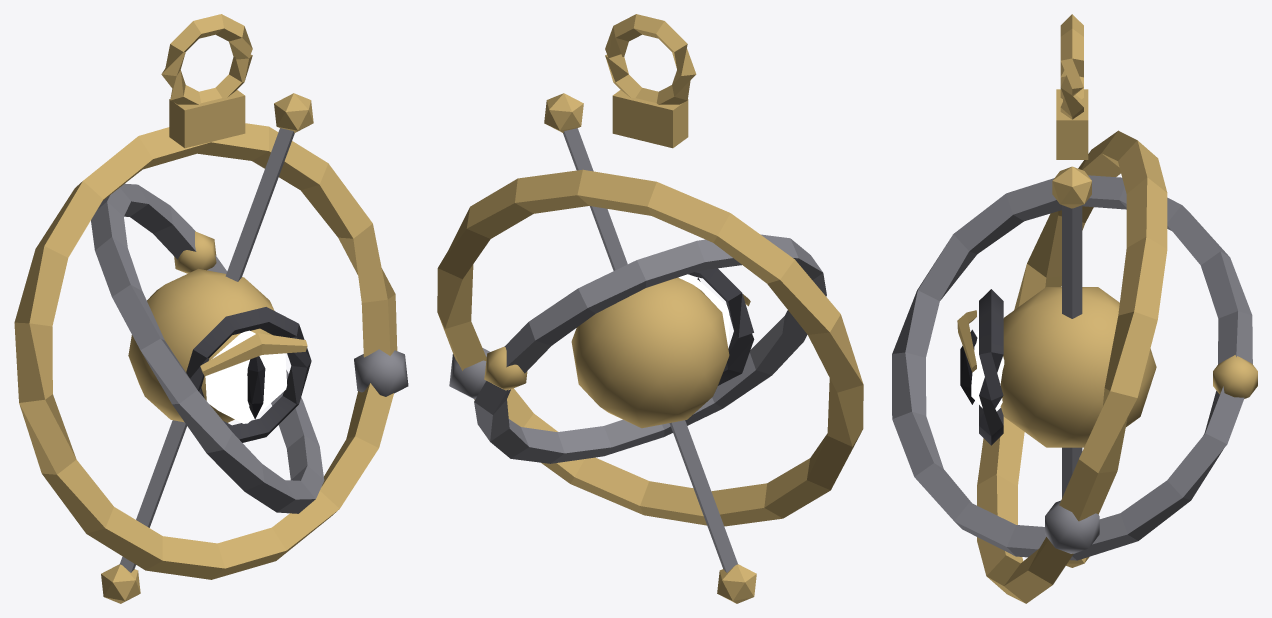
Rendered from astrolabe-orrery.glb.
The picture shows the model from 3 angles, left to right: view 1: azimuth 30°, elevation 25°; view 2: azimuth 150°, elevation 25°; view 3: azimuth 270°, elevation 25°; orthographic projection. The views are drawn at different scales.
Visible parts, largest first — view 1: astrolabe_orrery; view 2: astrolabe_orrery; view 3: astrolabe_orrery.
Part boxes in pixels (x1=…): astrolabe_orrery: x1=14, y1=14, x2=408, y2=603; astrolabe_orrery: x1=437, y1=14, x2=863, y2=603; astrolabe_orrery: x1=892, y1=14, x2=1257, y2=603.
Bounding box in the file's own units: 0.6664 × 0.897 × 0.5031.
